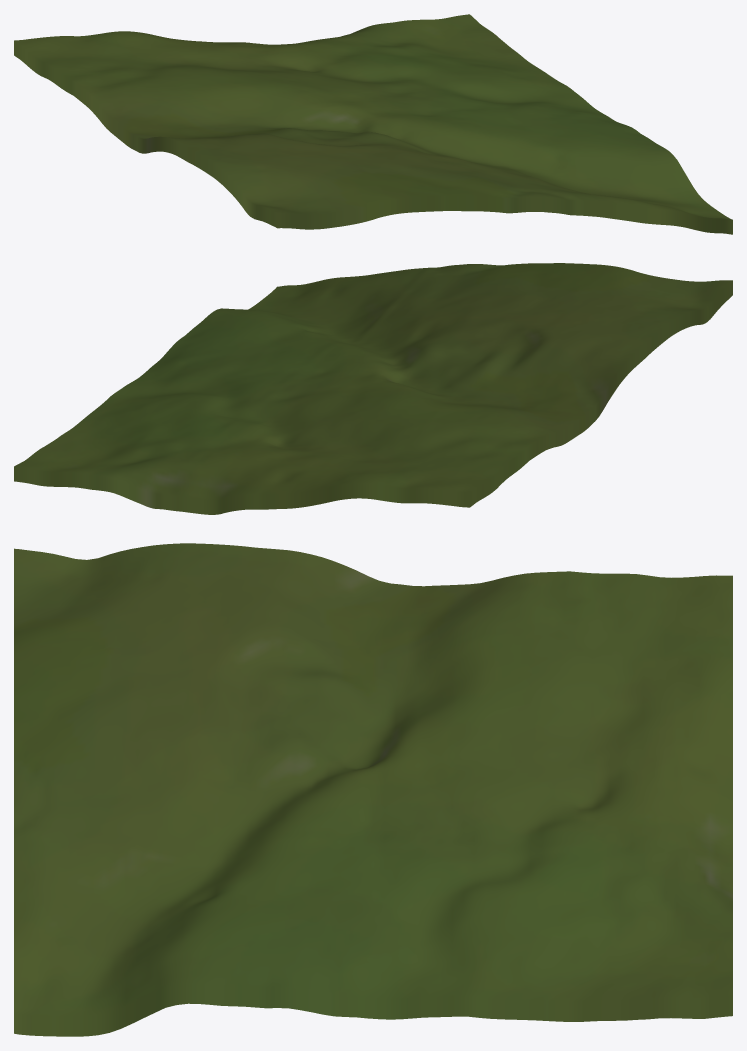
File: terrain_7_-19.glb
3 views of the same model, one above another, from view 1: azimuth 30°, elevation 25°; view 2: azimuth 150°, elevation 25°; view 3: azimuth 270°, elevation 25° (orthographic). The views are drawn at different scales.
Parts seen in each view (by area): view 1: terrain_7_-19; view 2: terrain_7_-19; view 3: terrain_7_-19.
Part boxes in pixels (x1,y1,x2,y2): terrain_7_-19: (14,14,732,234); terrain_7_-19: (14,263,732,514); terrain_7_-19: (14,543,732,1036).
Bounding box in the file's own units: 256 × 74.48 × 256.
